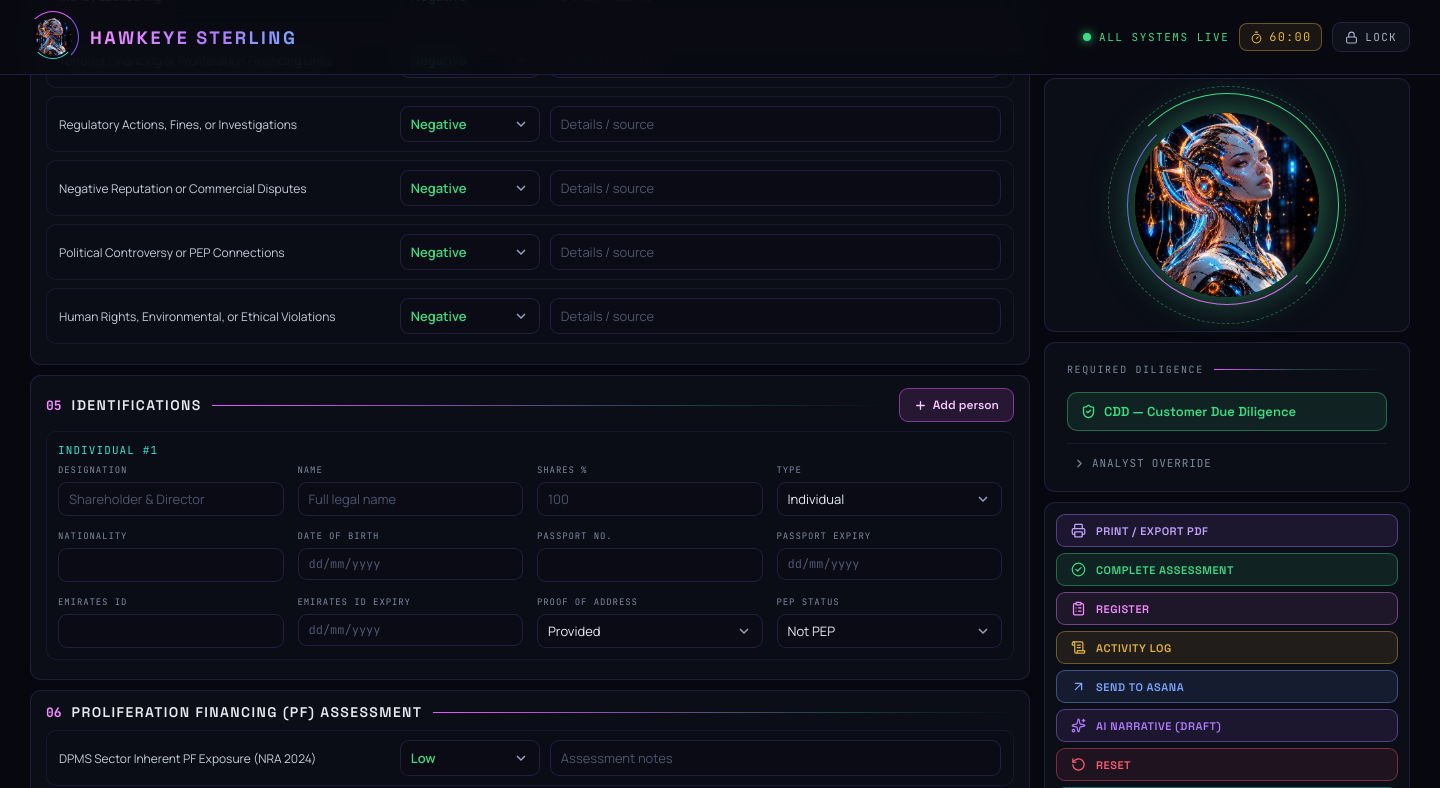
Test: workstation › adds and removes identification persons
(page scrolled)
Expected: the text "INDIVIDUAL #1" is shown, [58, 443, 158, 457]
Expected: the text "INDIVIDUAL #2" is not shown
Click the button "Add person": (956, 405) [899, 388, 1014, 422]
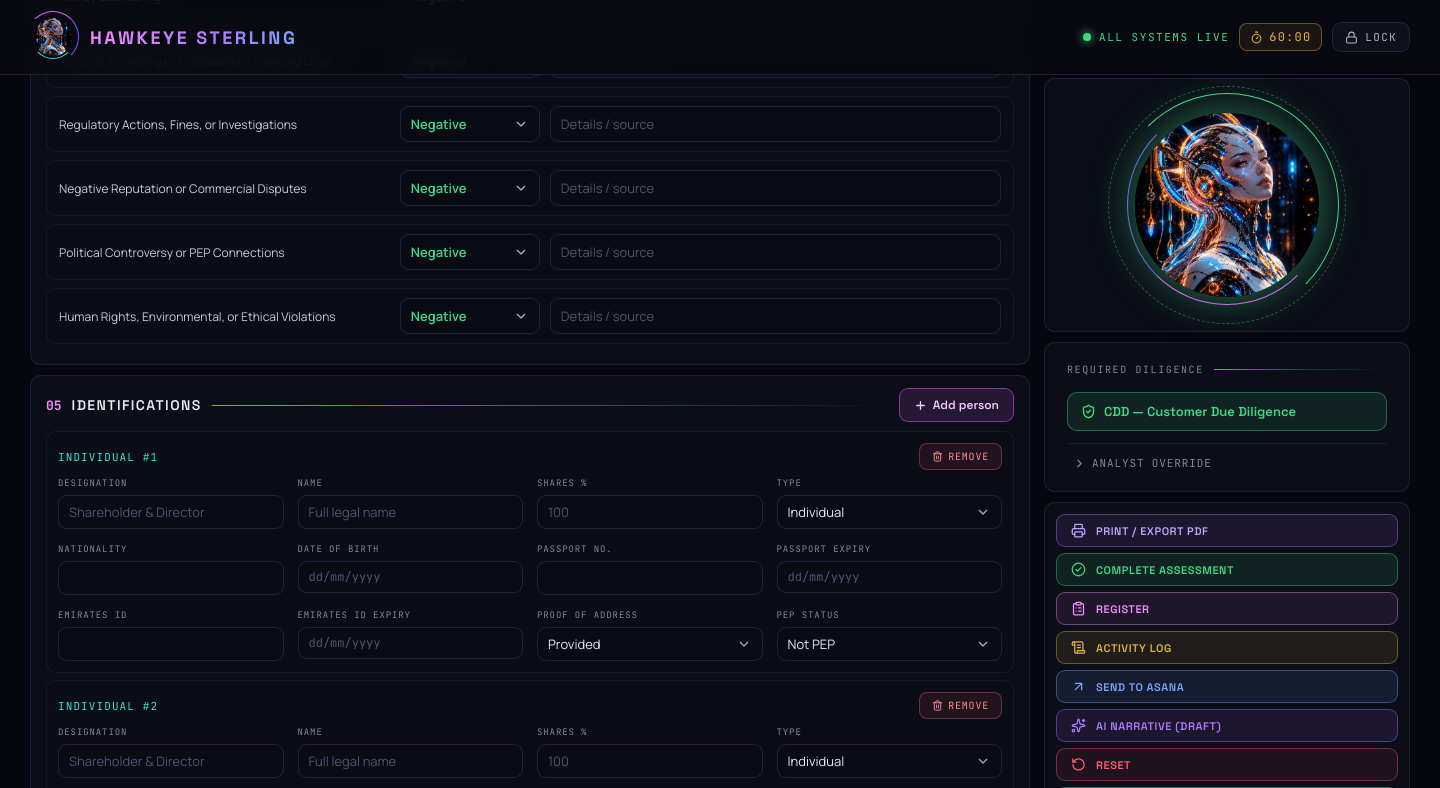
Expected: the text "INDIVIDUAL #2" is shown, [58, 698, 158, 712]
Click the 1st button "REMOVE": (961, 456) [919, 443, 1002, 470]
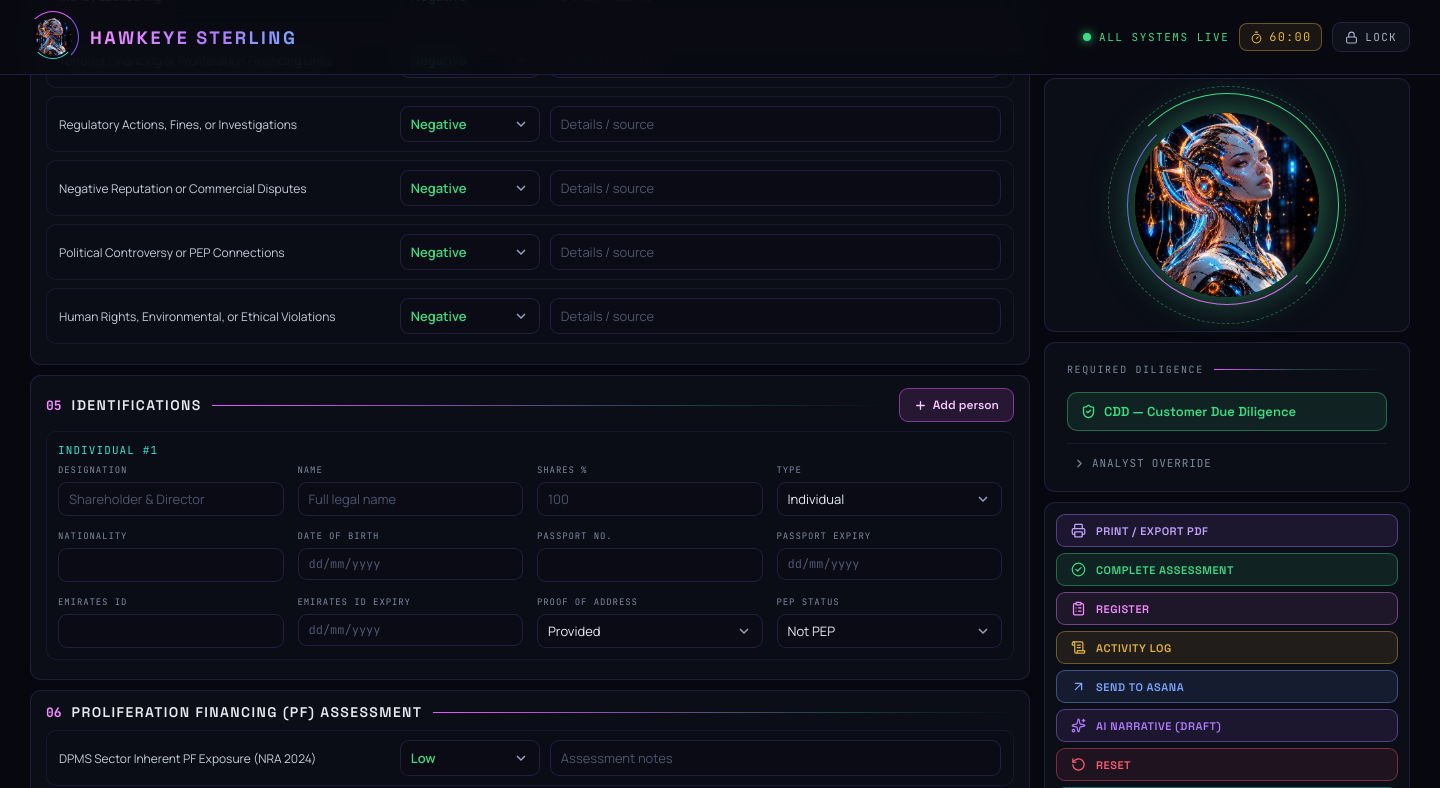
Expected: the text "INDIVIDUAL #2" is gone
